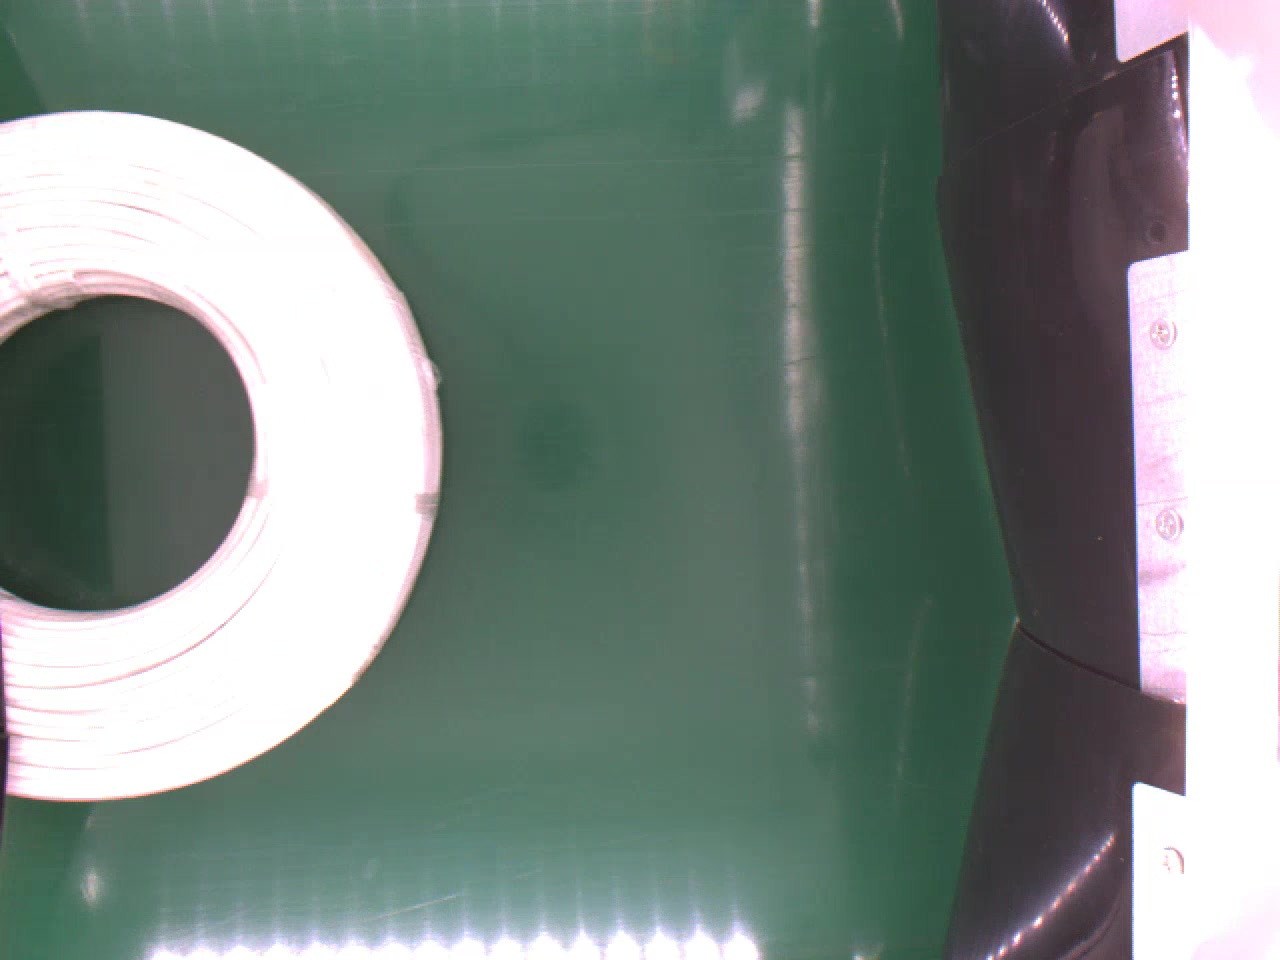white: (0, 100, 450, 804)
